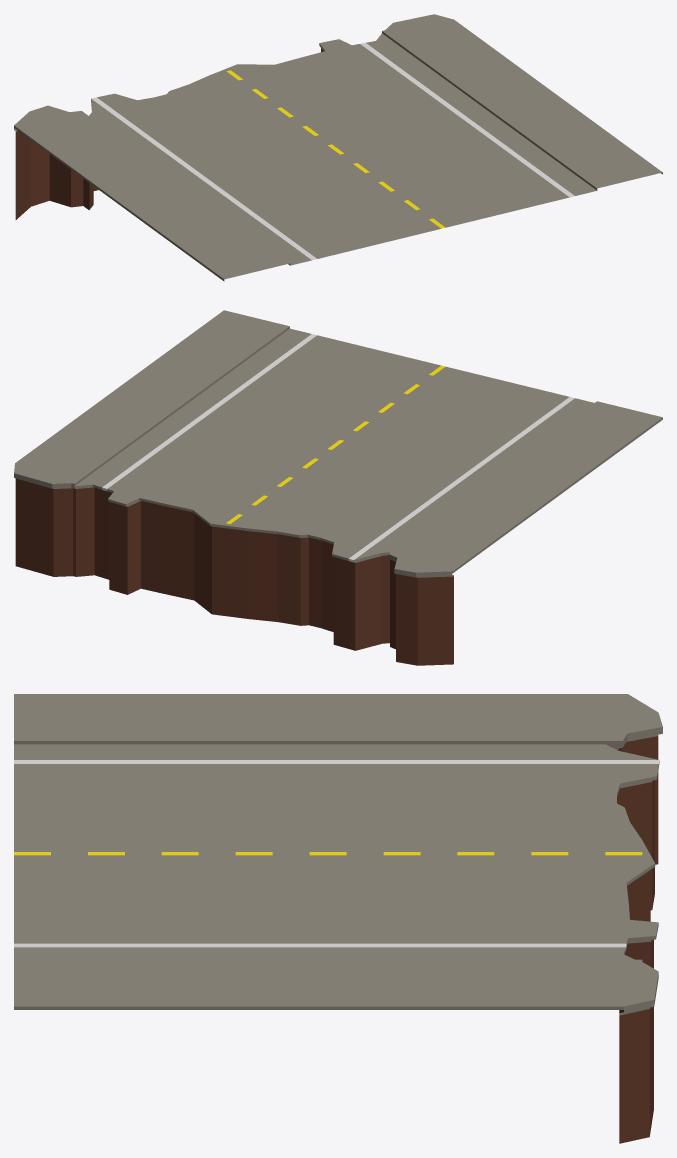
Rendered from straight_Broken_Half.fbx.
The picture shows the model from 3 angles, top to bottom: view 1: azimuth 30°, elevation 25°; view 2: azimuth 150°, elevation 25°; view 3: azimuth 270°, elevation 25°; orthographic projection. The views are drawn at different scales.
Visible parts, largest first — view 1: Straight; view 2: Straight; view 3: Straight.
Boxes of the visible parts, box(x1,y1,x2,y2) form: Straight: box(14, 14, 662, 281); Straight: box(14, 310, 662, 665); Straight: box(14, 694, 662, 1143).
Bounding box in the file's own units: 20 × 4.1 × 17.56.
